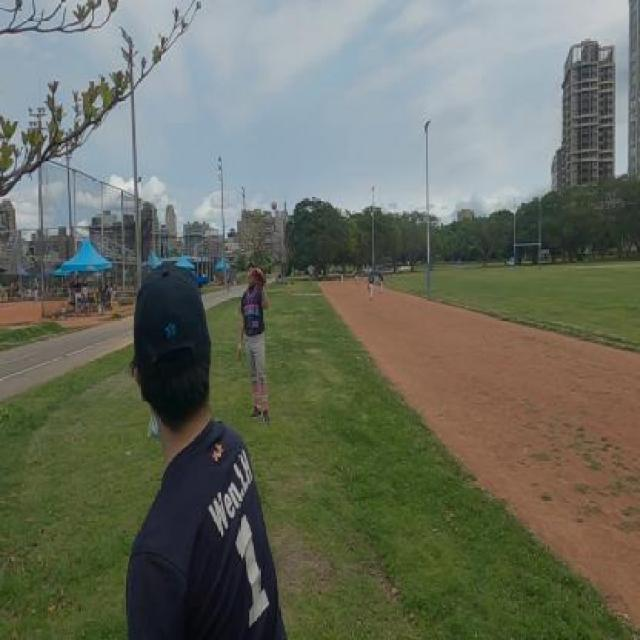baseball: (271, 200, 277, 211)
